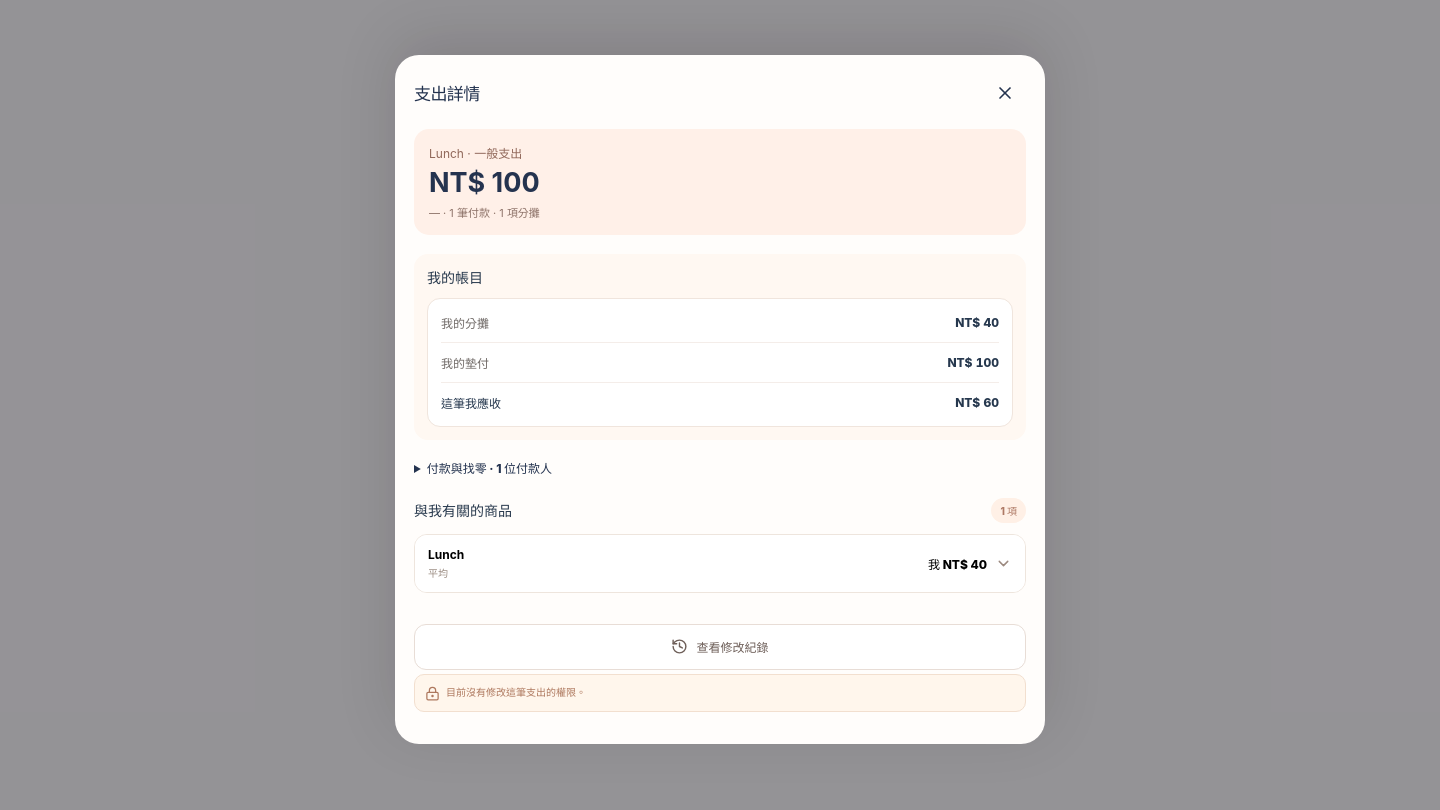
Scenario: expense history shows who, time, and allocation changes without revision numbers
Click the button "查看修改紀錄" at (720, 646), box [414,624,1026,670]
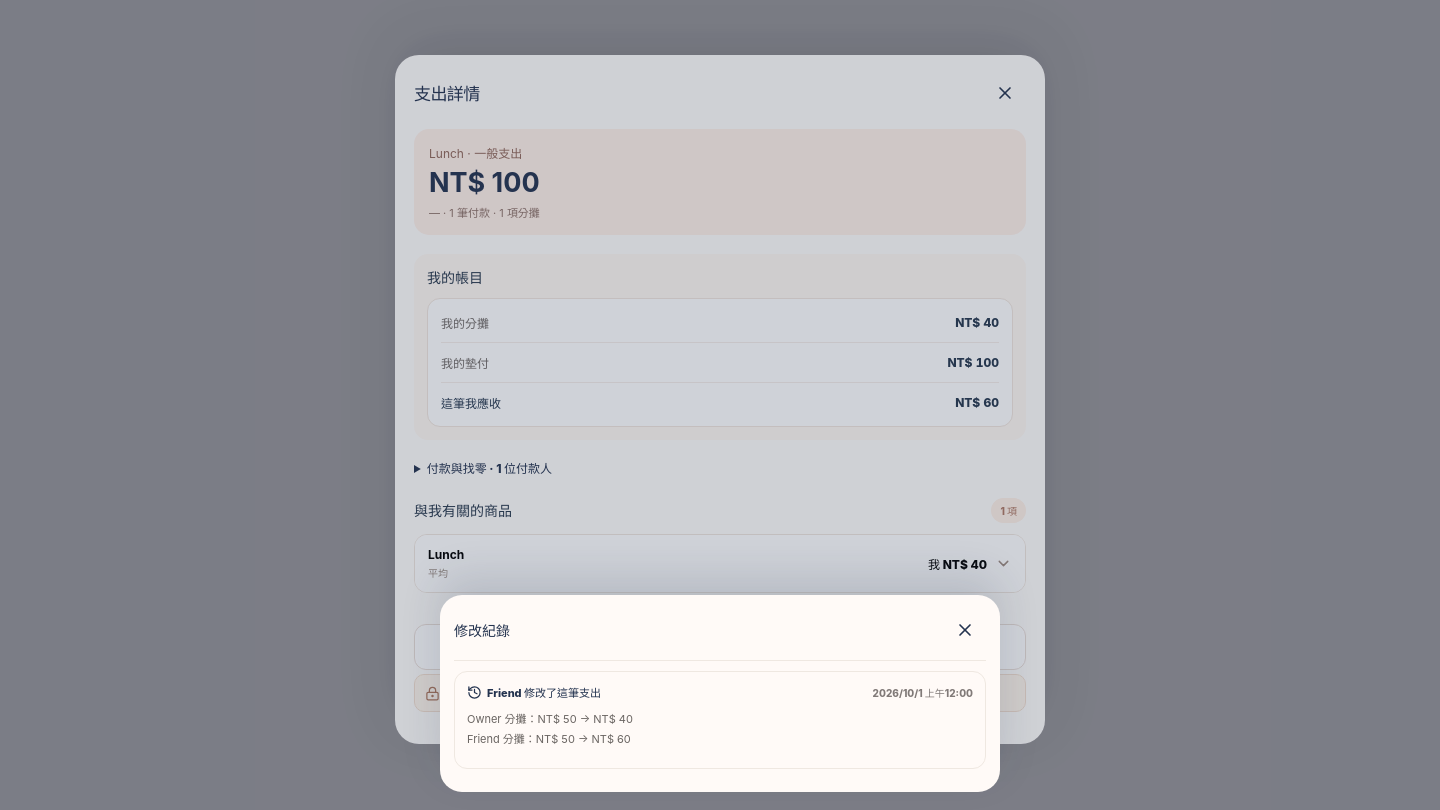
Expected: the text "Friend 修改了這筆支出" is shown, [467,684,973,700]
Expected: the text "Friend 分攤：NT$ 50 → NT$ 60" is shown, [467,732,631,746]
